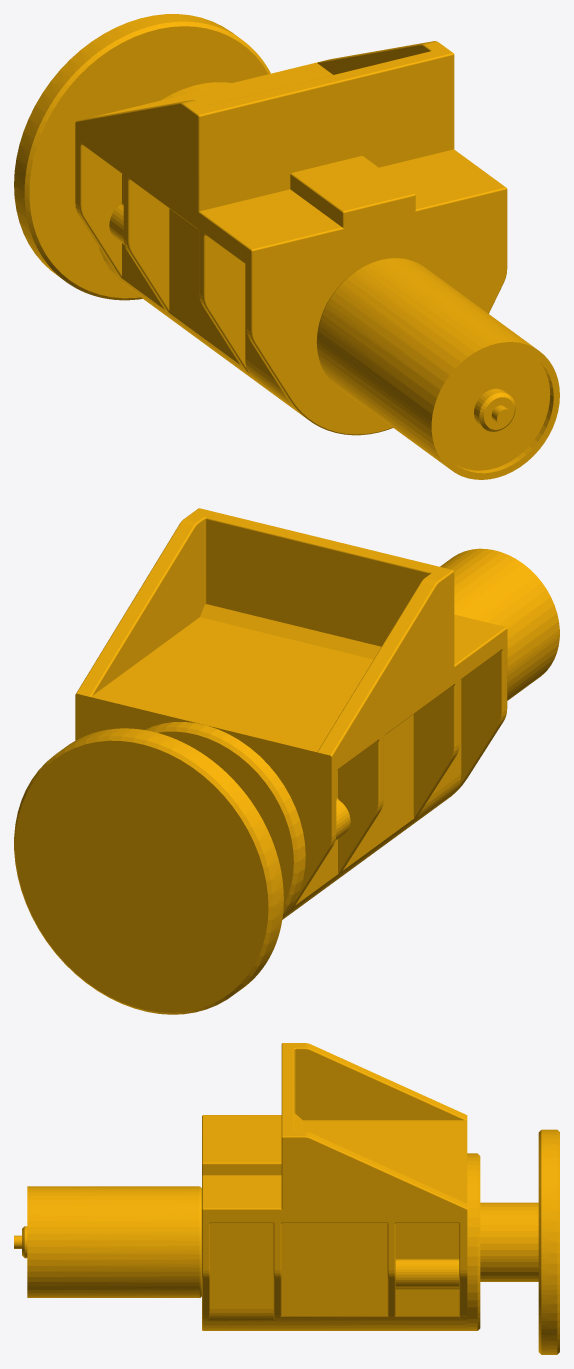
Rendered from motor_housing.glb.
The picture shows the model from 3 angles, top to bottom: view 1: azimuth 30°, elevation 25°; view 2: azimuth 150°, elevation 25°; view 3: azimuth 270°, elevation 25°; orthographic projection. The views are drawn at different scales.
Parts seen in each view (by area): view 1: motor housing solid; view 2: motor housing solid; view 3: motor housing solid.
Boxes of the visible parts, x1,y1,x2,y2 form: motor housing solid: [14, 14, 559, 479]; motor housing solid: [14, 508, 559, 1014]; motor housing solid: [14, 1043, 559, 1354].
Size of the model in its own units: 0.85 by 1.06 by 2.06.
